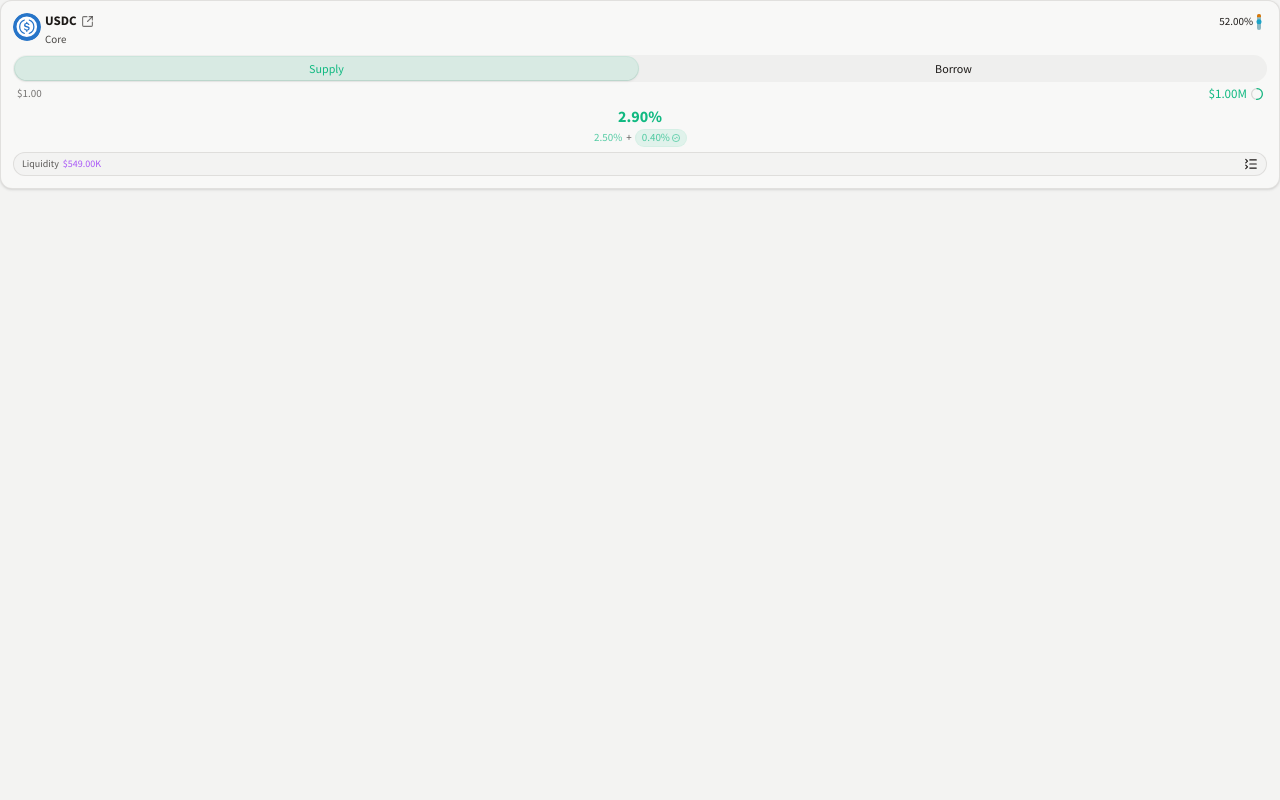
Test case: MobileReserveCard › supplyCap/borrowCap 计算回归测试 (AAV-243) › renders cap sheet with CapProgressContent using nativeToUsd result for supply
The image size is (1280, 800).
Click the button named "Show supply cap details" at (1234, 94), box [1204,86,1263,102]
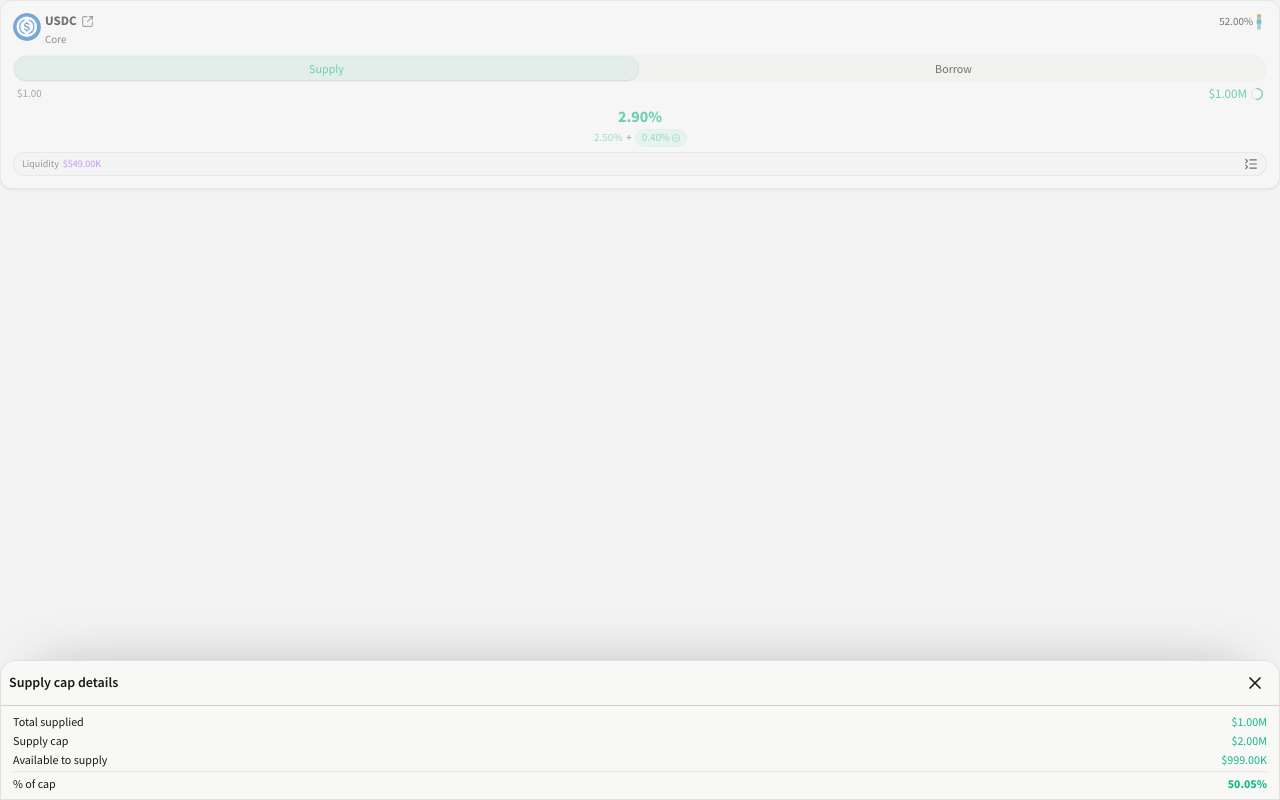
Expected: the text "$2.00M" is shown, [1231,733,1267,748]
